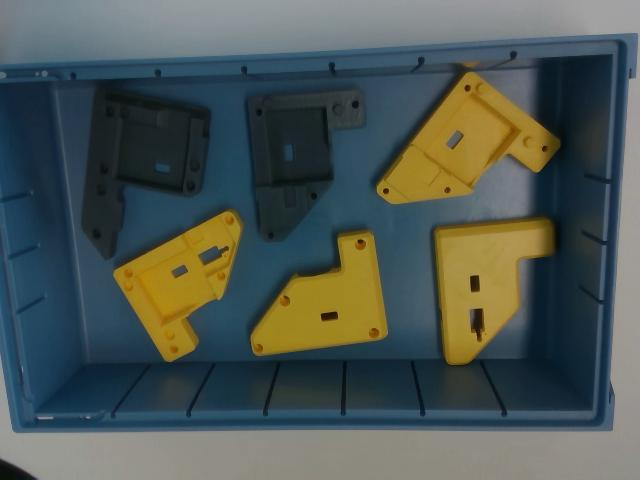1Agray: (243, 88, 367, 245)
1Ayellow: (372, 69, 563, 209), (249, 228, 392, 360)
1Byellow: (116, 209, 243, 364), (436, 216, 554, 364)
3Bgray: (82, 88, 213, 260)
